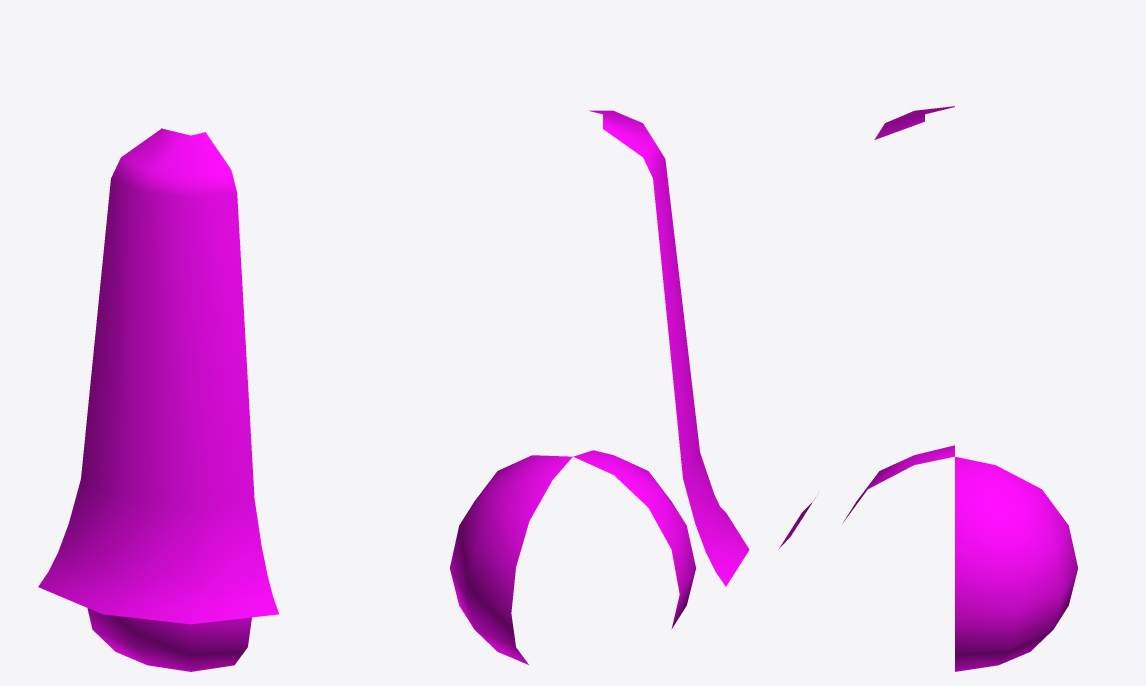
The model's file is ava_bodyB0__ava_bodyB0.glb.
3 views of the same model, side by side, from view 1: azimuth 30°, elevation 25°; view 2: azimuth 150°, elevation 25°; view 3: azimuth 270°, elevation 25° (orthographic).
Visible parts, largest first — view 1: polygon0, polygon1; view 2: polygon1, polygon0; view 3: polygon1, polygon0.
Boxes of the visible parts, bbox=[...] form: polygon0: bbox=[38, 128, 278, 624]; polygon1: bbox=[87, 608, 251, 671]; polygon1: bbox=[450, 450, 695, 664]; polygon0: bbox=[589, 110, 749, 586]; polygon1: bbox=[843, 445, 1077, 671]; polygon0: bbox=[778, 106, 954, 549].
Bounding box in the file's own units: 4.3 × 8.44 × 4.3.
1 material, 1 textured.
